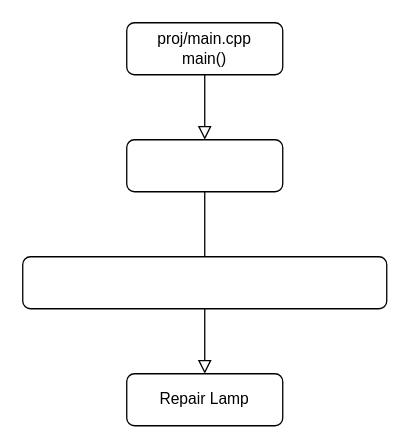
The diagram is 410 pixels wide and 448 high, and some of its shapes have lost their labels. The box of each missing label's shape, as (x1, y1, x2, y2) in pixels:
src/engine/engine.cpp Engine::run(): (125, 138, 283, 192)
src/engine/function/render/render_engine.cpp RenderEngine::draw(): (21, 255, 387, 309)
